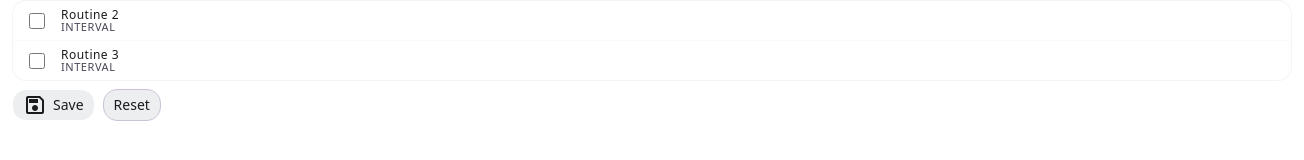
Test case: DependsOnEditor › shows selected count after toggles
What coordinates should you click on to do the following:
click the checkbox named "Depends on Routine 2"
I would click on:
 (37, 20)
Its box is x1=29 y1=12 x2=45 y2=28.
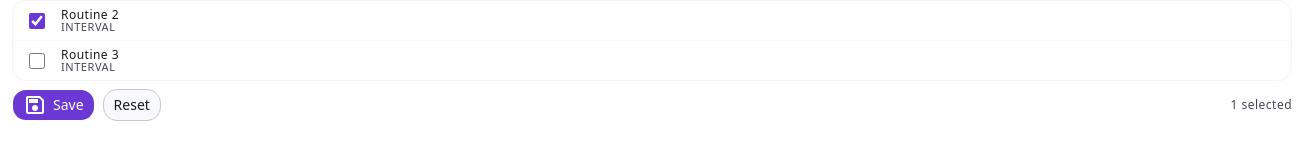
What coordinates should you click on to do the following:
click the checkbox named "Depends on Routine 3"
I would click on:
 (37, 60)
Its box is x1=29 y1=52 x2=45 y2=68.
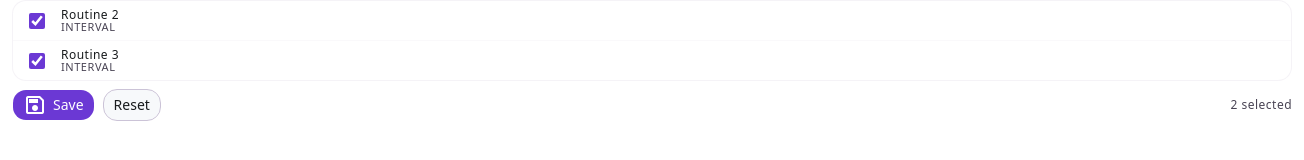
expect the text "2 selected" is shown: met, box x1=1231 y1=99 x2=1292 y2=111
